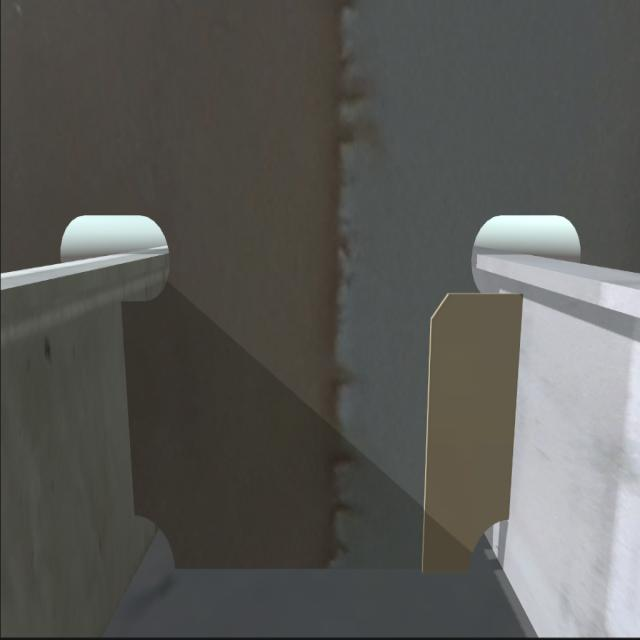fillet_hole: (462, 511, 510, 582), (134, 513, 176, 571)
fillet_yong_jeop_jang: (169, 552, 477, 580)
longi_yong_jeop_jang: (119, 296, 142, 519), (509, 285, 524, 527)
plate_CP03: (422, 288, 524, 576)
